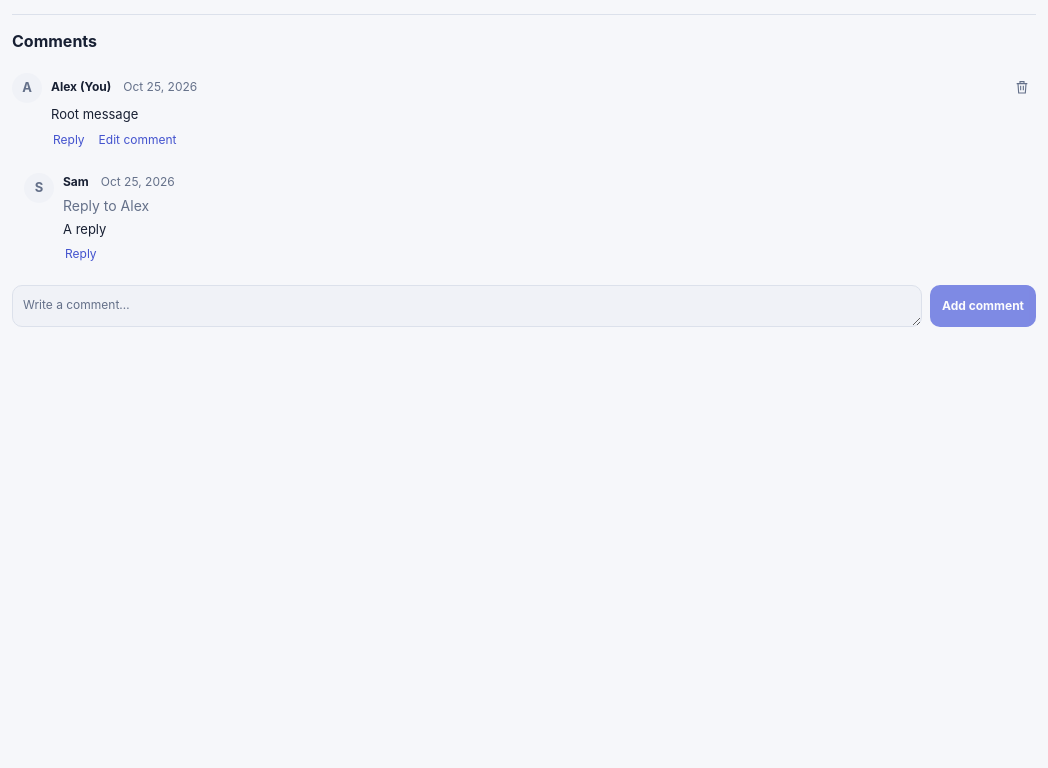
sends replies with the selected parent's numeric ID
The width and height of the screenshot is (1048, 768).
Expected: the text "A reply" is shown, [63,220,106,236]
Click the button "Reply" below "A reply". click: coordinates (81, 254)
box: [63,243,99,265]
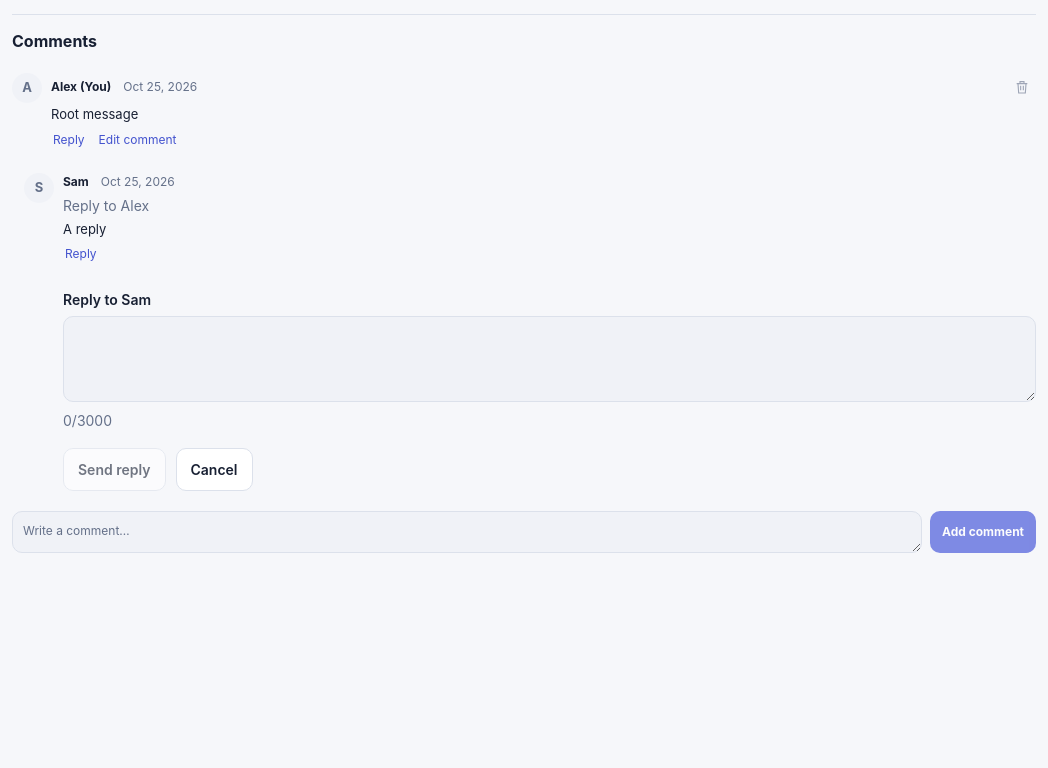
Type "Nested answer" into the text box labelled "Reply to Sam". click: coordinates (550, 359)
box: [63,316,1036,402]
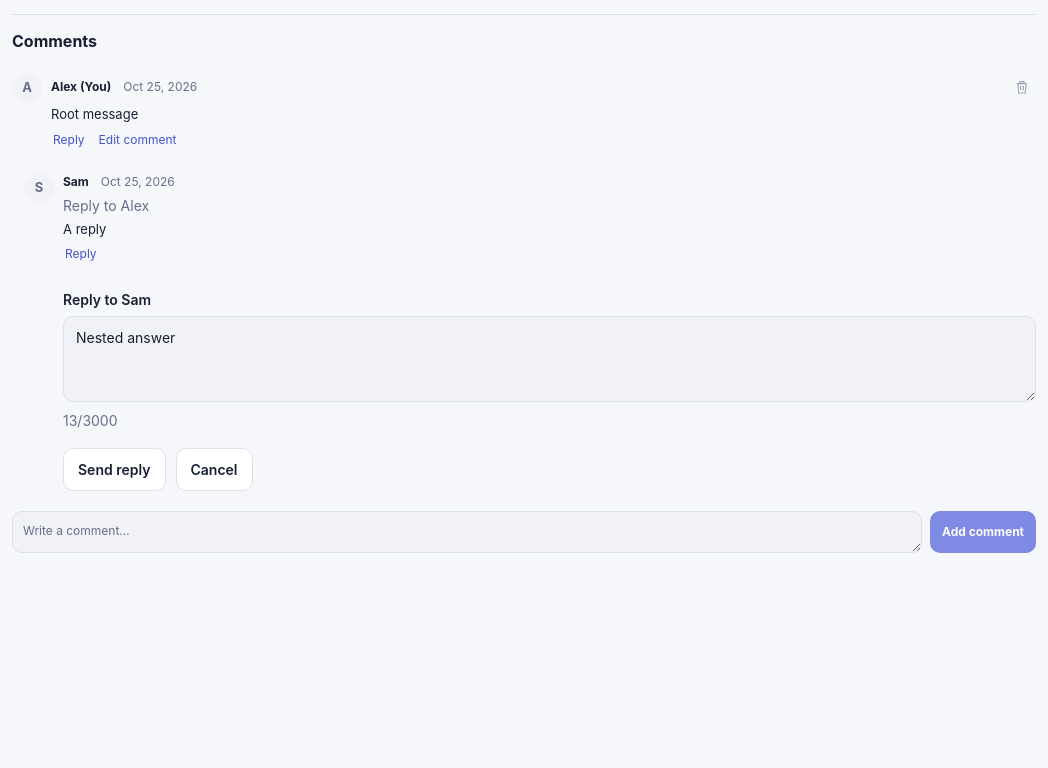
Click the button "Send reply". click: coordinates (114, 470)
box: [63,448,166,491]
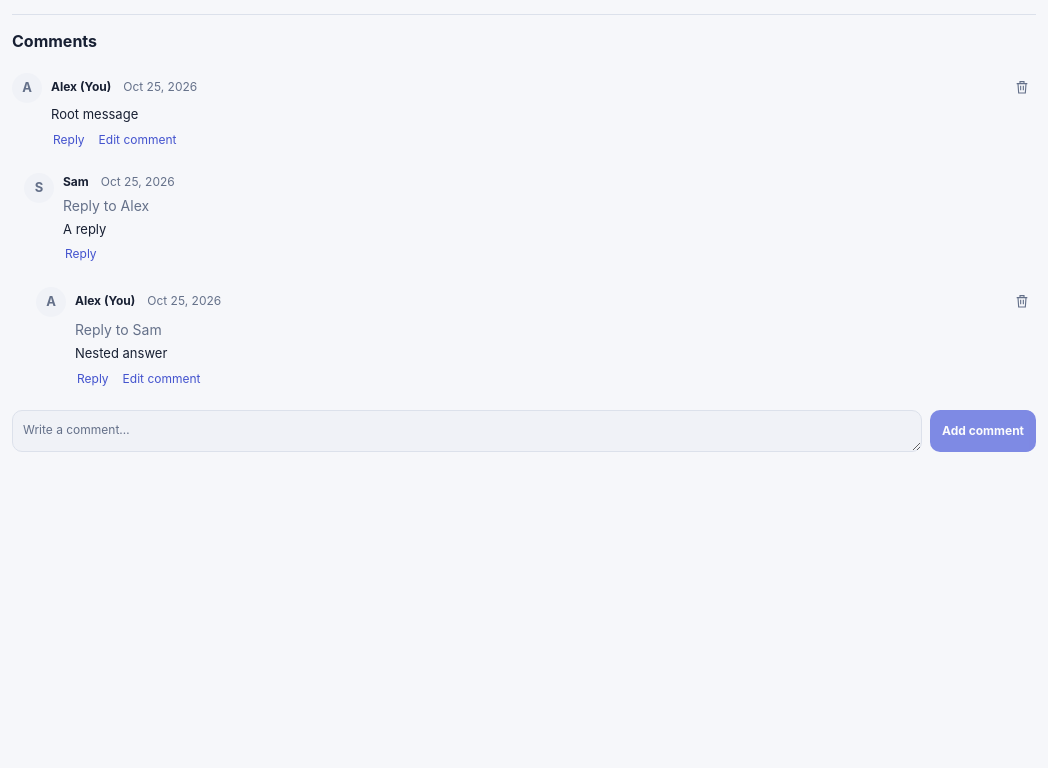
Expected: the text "Nested answer" is shown, [75,345,167,361]
